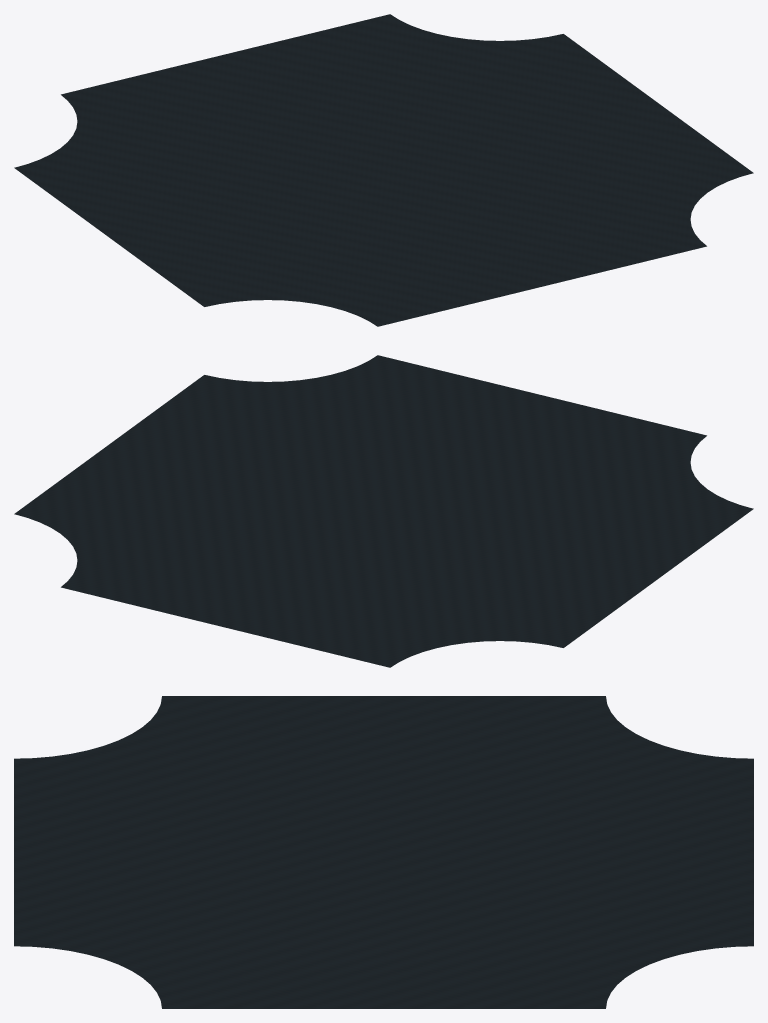
The model's file is Transit_Road_4L_XJunction_R4_Surface.glb.
3 renders of one model, top to bottom at view 1: azimuth 30°, elevation 25°; view 2: azimuth 150°, elevation 25°; view 3: azimuth 270°, elevation 25°, orthographic. The views are drawn at different scales.
Parts seen in each view (by area): view 1: Transit_Road_4L_XJunction_R4_Surface; view 2: Transit_Road_4L_XJunction_R4_Surface; view 3: Transit_Road_4L_XJunction_R4_Surface.
Boxes of the visible parts, x1,y1,x2,y2 form: Transit_Road_4L_XJunction_R4_Surface: (14, 14, 753, 326); Transit_Road_4L_XJunction_R4_Surface: (14, 355, 753, 667); Transit_Road_4L_XJunction_R4_Surface: (14, 696, 753, 1008).
Bounding box in the file's own units: 20 × 0 × 20.
Materials: 1 (1 with a texture image).
